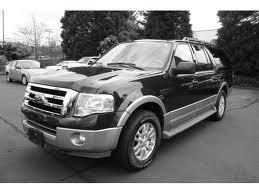car: (19, 38, 234, 173)
